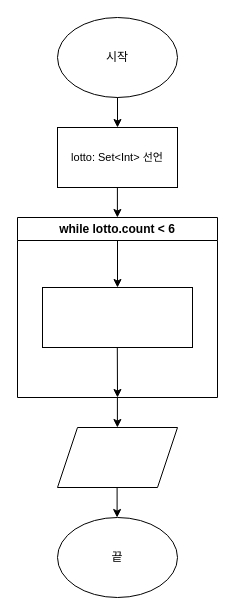
Image size: 235x615. Some labels were removed from this diagram. Here are the shapes that lost their labels. From the top down, the centre of each, then its label:
(x=117, y=317): lotto.insert(Int.random(1...45)) 1~45에서 랜덤 숫자 추출 및 lotto에 추가
(x=117, y=457): "\(lotto)" 출력
